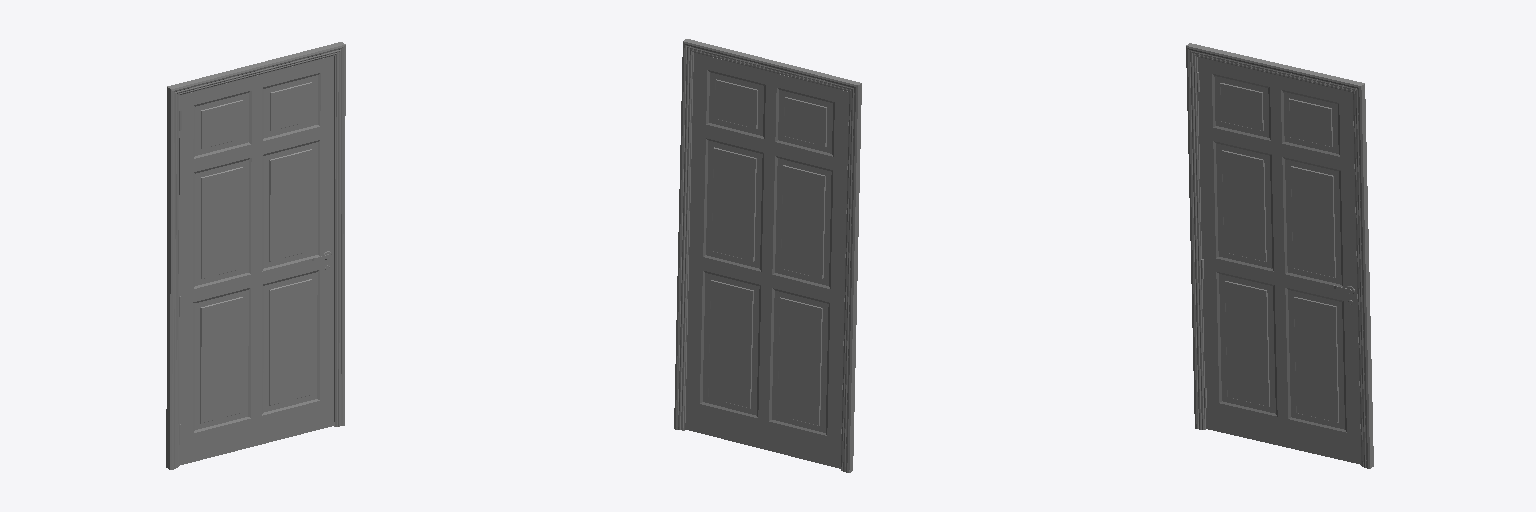
File: door.obj
3 views of the same model, side by side, from view 1: azimuth 30°, elevation 25°; view 2: azimuth 150°, elevation 25°; view 3: azimuth 330°, elevation 25° (orthographic).
Parts seen in each view (by area): view 1: 10057_wooden_door_v3_iterations-2; view 2: 10057_wooden_door_v3_iterations-2; view 3: 10057_wooden_door_v3_iterations-2.
Part boxes in pixels (x1,y1,x2,y2): 10057_wooden_door_v3_iterations-2: (166,42,345,469); 10057_wooden_door_v3_iterations-2: (674,39,861,472); 10057_wooden_door_v3_iterations-2: (1186,43,1373,468).
Bounding box in the file's own units: 1.16 × 2.4 × 0.1033.